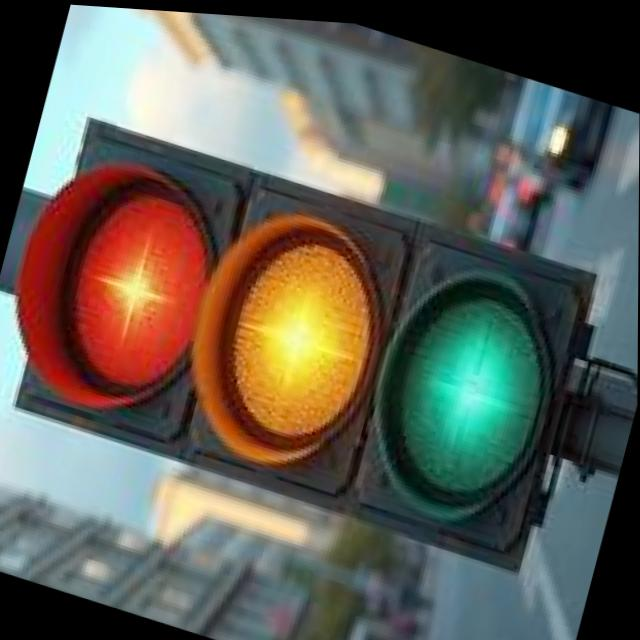green_light: (327, 203, 581, 592)
red_light: (0, 118, 284, 485)
yellow_light: (157, 178, 414, 515)
